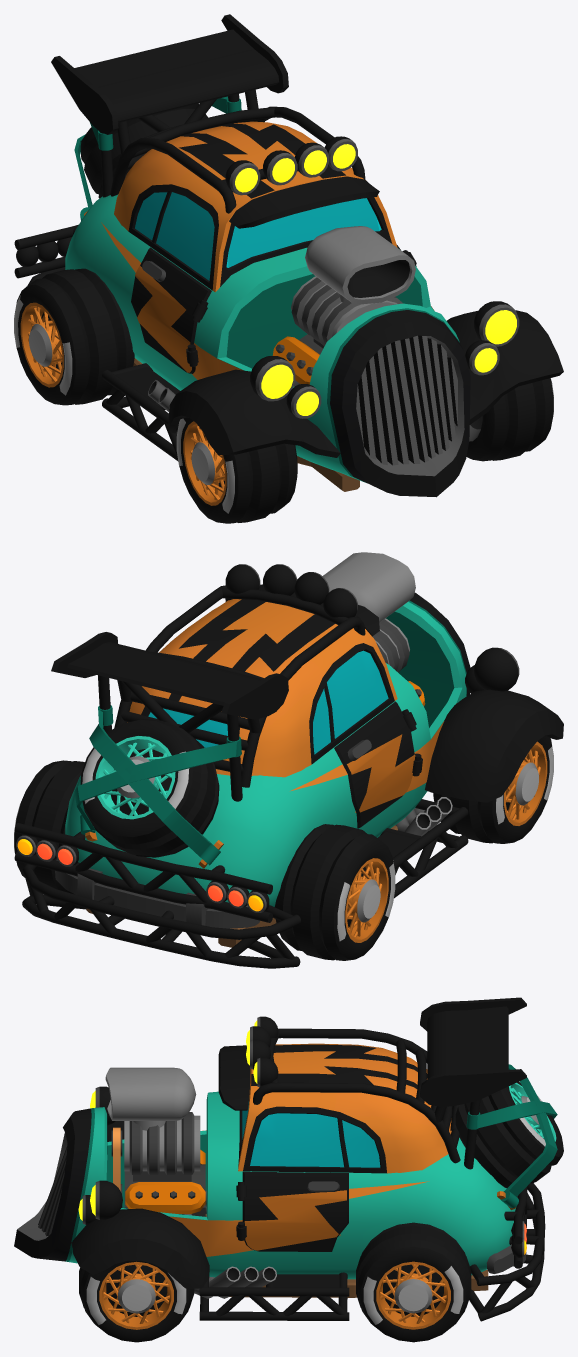
Rendered from SVehicle01.fbx.
3 renders of one model, top to bottom at view 1: azimuth 30°, elevation 25°; view 2: azimuth 150°, elevation 25°; view 3: azimuth 270°, elevation 25°, orthographic. The views are drawn at different scales.
Parts seen in each view (by area): view 1: SVehicle01, SV1_Wheel_BR, SV1_Wheel_FR, SV1_Wheel_FL, SV1_Wheel_BS; view 2: SVehicle01, SV1_Wheel_BR, SV1_Wheel_BS, SV1_Wheel_FR, SV1_Wheel_BL; view 3: SVehicle01, SV1_Wheel_BL, SV1_Wheel_FL, SV1_Wheel_BS.
Boxes of the visible parts, x1=… form: SVehicle01: x1=14, y1=14, x2=563, y2=497; SV1_Wheel_BR: x1=14, y1=268, x2=134, y2=405; SV1_Wheel_FR: x1=176, y1=417, x2=297, y2=523; SV1_Wheel_FL: x1=466, y1=378, x2=553, y2=461; SV1_Wheel_BS: x1=80, y1=103, x2=207, y2=198; SVehicle01: x1=14, y1=552, x2=563, y2=968; SV1_Wheel_BR: x1=275, y1=824, x2=395, y2=960; SV1_Wheel_BS: x1=80, y1=719, x2=219, y2=857; SV1_Wheel_FR: x1=433, y1=736, x2=553, y2=843; SV1_Wheel_BL: x1=14, y1=760, x2=84, y2=894; SVehicle01: x1=14, y1=997, x2=557, y2=1321; SV1_Wheel_BL: x1=356, y1=1222, x2=471, y2=1342; SV1_Wheel_FL: x1=79, y1=1260, x2=194, y2=1342; SV1_Wheel_BS: x1=452, y1=1081, x2=563, y2=1188.
Bounding box in the file's own units: 268 × 210 × 425.
Materials: 1 (1 with a texture image).
